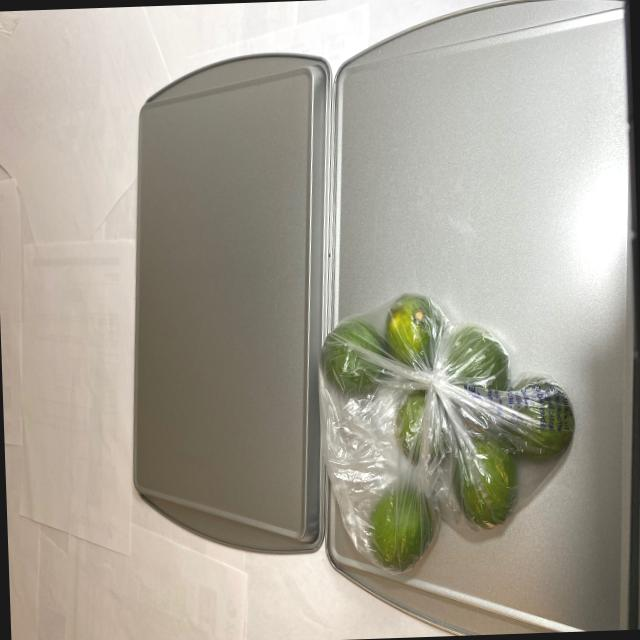lemon: (316, 284, 572, 575)
